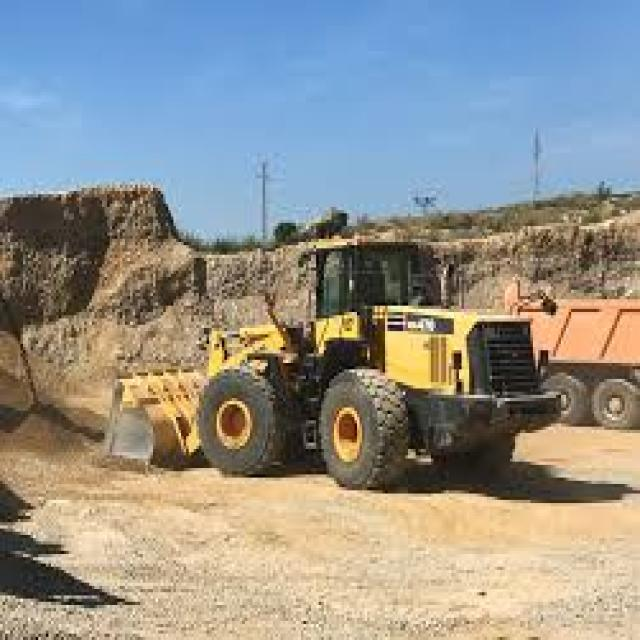buldozerpayloadergrader: (93, 237, 566, 491)
